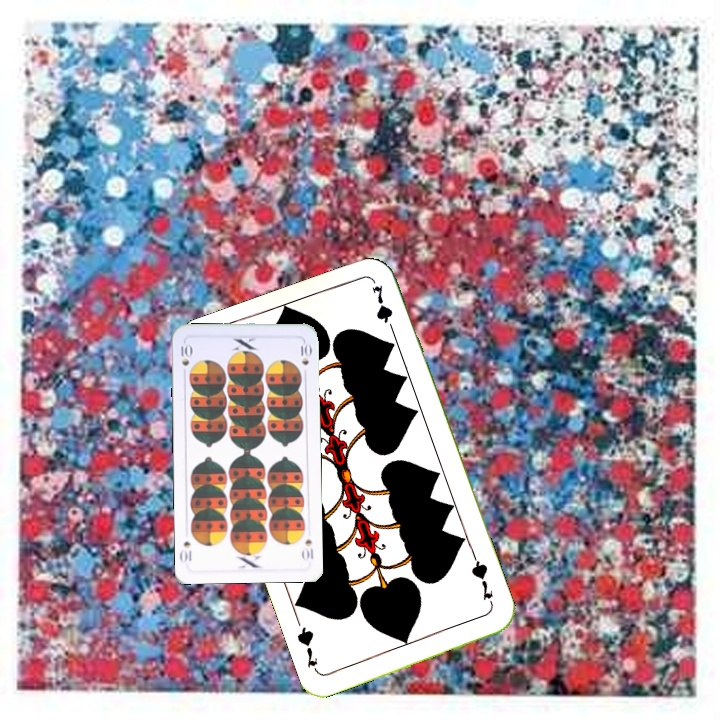G7: (467, 553, 497, 610)
S10: (177, 340, 194, 379), (298, 535, 316, 563)
